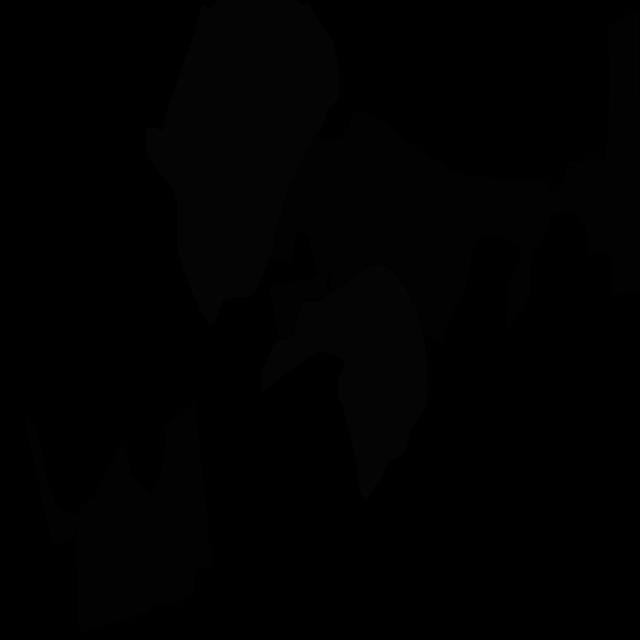cardboard: (330, 110, 552, 342), (75, 403, 212, 633), (604, 8, 640, 297), (269, 135, 342, 275), (25, 411, 75, 545), (550, 157, 611, 253), (268, 273, 330, 339)
soft_plastic: (146, 0, 340, 324), (262, 264, 428, 499)
